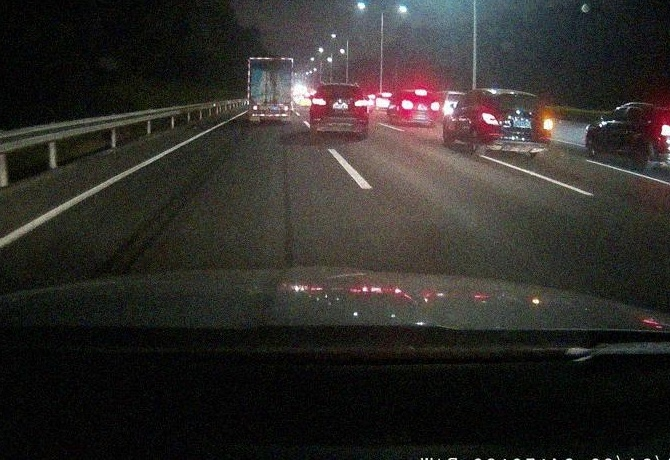L_light: (481, 113, 499, 125), (401, 100, 414, 110), (311, 98, 327, 105), (252, 105, 263, 110)
R_light: (543, 118, 554, 131), (354, 99, 368, 107), (431, 101, 440, 111), (280, 105, 289, 111)
T_light: (414, 90, 428, 96), (511, 94, 523, 98), (265, 59, 275, 61), (336, 84, 345, 86)
night-brake: (399, 88, 441, 127)
night-no: (309, 83, 368, 139), (246, 57, 294, 124)
night-right: (478, 90, 554, 157)
